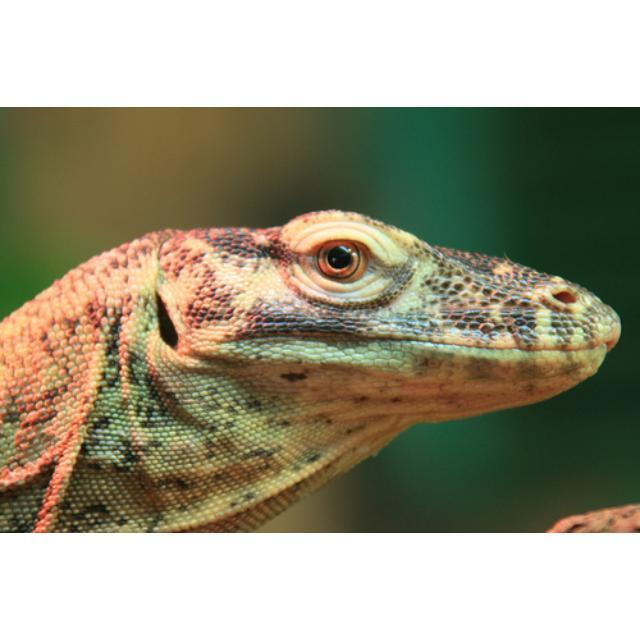KomodoDragon: (0, 207, 636, 529)
